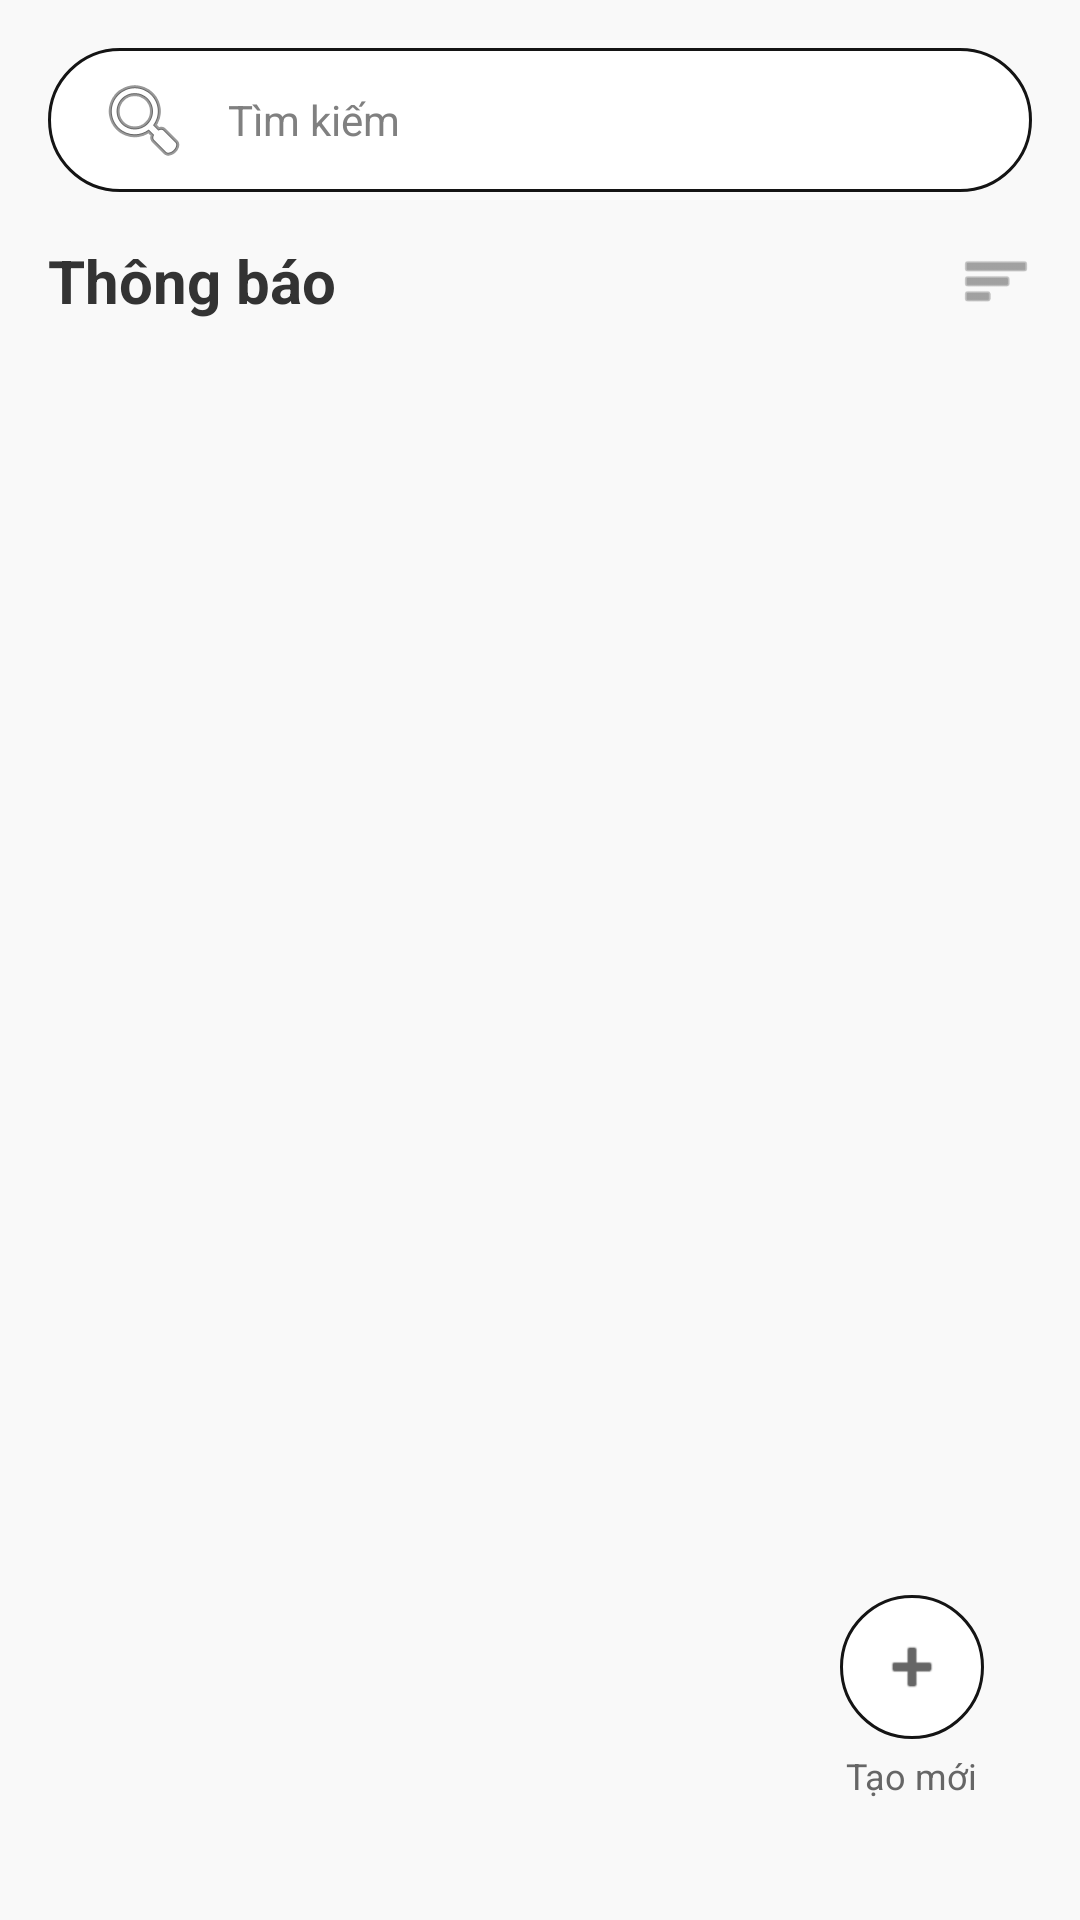

Named icons in this screenshot (1080 x 1920) and their bounding boxes, [x1,y1,x2,y2]:
add: [892,1647,932,1687]
sort by size: [965,261,1027,301]
